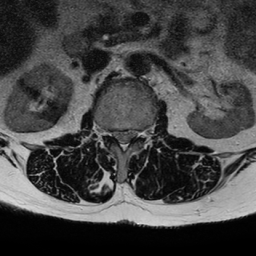CCS_normal: (120, 123, 127, 157)
LFS_stenosis: (136, 121, 144, 146)
LLS_normal: (127, 122, 136, 146)
RFS_stenosis: (103, 120, 112, 144)
RLS_normal: (112, 122, 120, 146)
